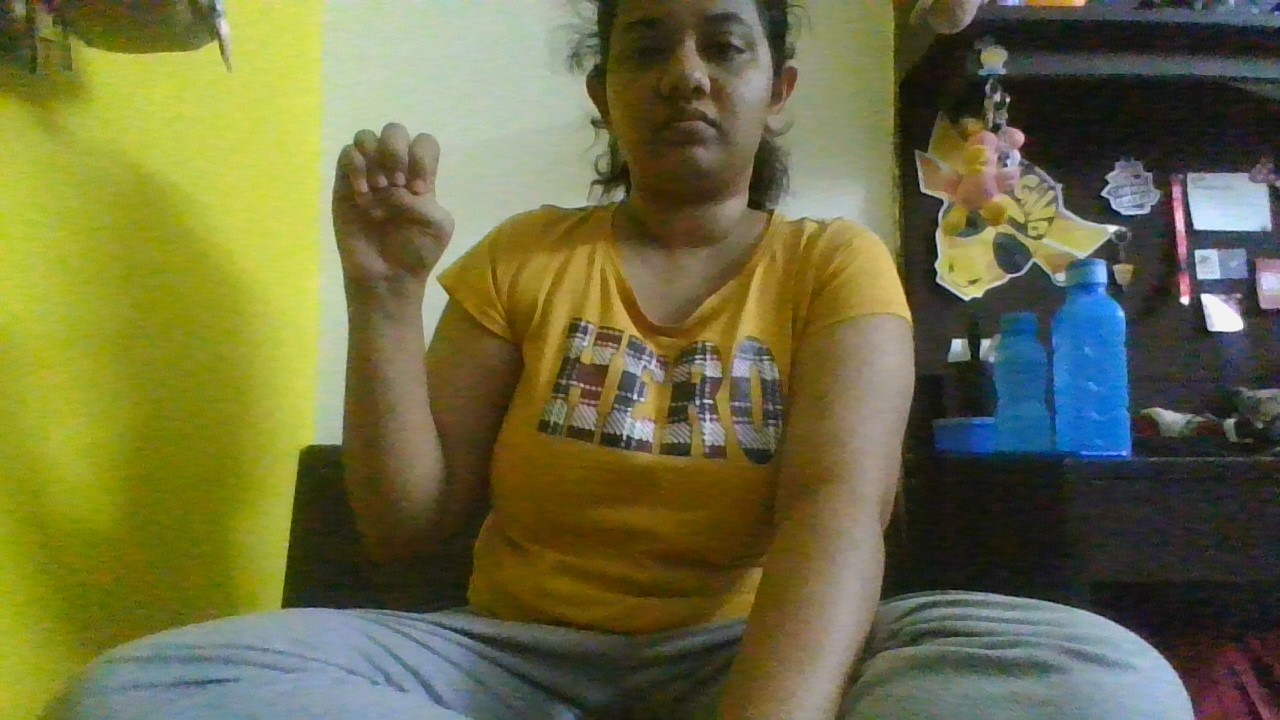e: (307, 109, 474, 313)
